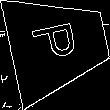P_E: (30, 22, 86, 68)
